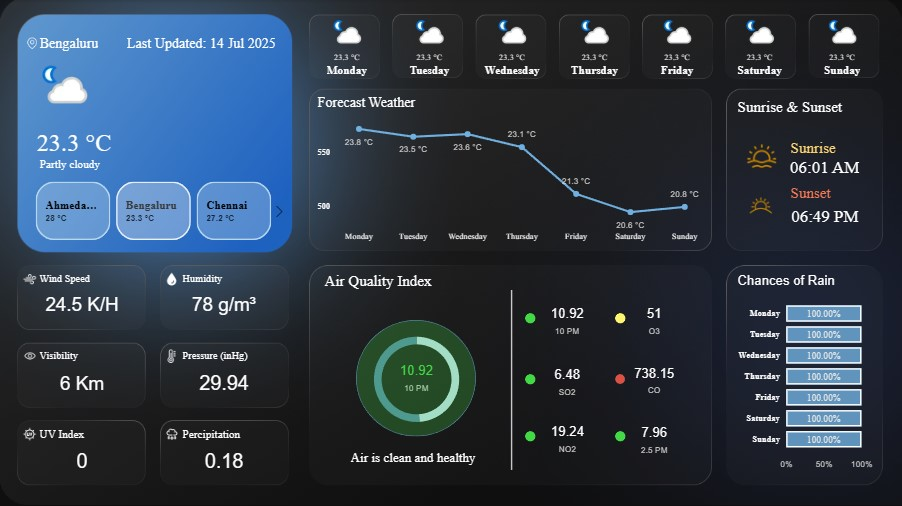

The dashboard page shown, as its layout file describes it:
{"tool":"powerbi","page":{"name":"Page 1","canvas":[1280,720],"ordinal":0},"visuals":[{"type":"advancedSlicerVisual","fields":{"Values":["Location.location.name"]},"box":[26.7,253.3,386.7,93.3],"z":0},{"type":"cardVisual","fields":{"Data":["Min(Current_Table.current.condition.text)"]},"box":[31.9,193.2,374.6,60.5],"z":1000},{"type":"cardVisual","fields":{"Data":["_Measures.Current_Temp_C"]},"box":[28.6,147.1,378.6,105.7],"z":2000},{"type":"cardVisual","fields":{"Data":["Min(Current_Table.location.name)"]},"box":[32.2,18.9,227.8,61.1],"z":3000},{"type":"cardVisual","fields":{"Data":["_Measures.Last_Updated_curr_date"]},"box":[138.2,19.1,280.9,60.9],"z":4000},{"type":"image","box":[33.8,46.2,26.2,32.5],"z":5000},{"type":"cardVisual","fields":{"Data":["Min(Current_Table.current.condition.icon)"]},"box":[35.7,72.9,110,105.7],"z":6000},{"type":"image","box":[27,492,33,28],"z":7000},{"type":"image","box":[26.9,382.3,33.1,29.2],"z":8000},{"type":"image","box":[228,382,32,29],"z":9000},{"type":"image","box":[228,492,32,29],"z":10000},{"type":"image","box":[27,602,33,29],"z":11000},{"type":"image","box":[229,602,31,29],"z":12000},{"type":"cardVisual","title":"Visibility ","fields":{"Data":["_Measures.Last_Updated_curr_date"]},"box":[52,498,150,22.7],"z":13000},{"type":"cardVisual","title":"Humidity","fields":{"Data":["_Measures.Last_Updated_curr_date"]},"box":[255.3,388.7,150,22.7],"z":14000},{"type":"cardVisual","title":"Wind Speed ","fields":{"Data":["_Measures.Last_Updated_curr_date"]},"box":[52,388.7,150,22.7],"z":15000},{"type":"cardVisual","title":"Pressure (inHg)","fields":{"Data":["_Measures.Last_Updated_curr_date"]},"box":[255.3,498,150,22.7],"z":16000},{"type":"cardVisual","title":"UV Index","fields":{"Data":["_Measures.Last_Updated_curr_date"]},"box":[52,608.7,150,22.7],"z":17000},{"type":"cardVisual","title":"Percipitation","fields":{"Data":["_Measures.Last_Updated_curr_date"]},"box":[255.3,608.7,150,22.7],"z":18000},{"type":"card","fields":{"Values":["_Measures.Wind_speed"]},"box":[26.4,397.1,181.4,71.4],"z":19000},{"type":"card","fields":{"Values":["_Measures.Humidity"]},"box":[227.9,397.1,181.4,71.4],"z":20000},{"type":"card","fields":{"Values":["_Measures.Visibility"]},"box":[26.4,509.3,181.4,71.4],"z":21000},{"type":"card","fields":{"Values":["Sum(Current_Table.current.pressure_in)"]},"box":[227.9,509.3,181.4,71.4],"z":22000},{"type":"card","fields":{"Values":["Sum(Current_Table.current.uv)"]},"box":[26.4,620,181.4,71.4],"z":23000},{"type":"card","fields":{"Values":["Avg(Forecast by day.forecast.forecastday.day.totalprecip_in)"]},"box":[227.9,620,181.4,71.4],"z":24000},{"type":"advancedSlicerVisual","fields":{"Values":["Forecast by day.Day_Name"]},"box":[433.3,16.7,825,113.3],"z":25000},{"type":"lineChart","title":"Forecast Weather","fields":{"Y":["Sum(Forecast by day.forecast.forecastday.day.avgtemp_c)"],"Category":["Forecast by day.Day_Name"]},"box":[446.2,135,561.2,217.5],"z":26000},{"type":"cardVisual","title":"Sunrise & Sunset","fields":{"Data":["_Measures.Last_Updated_curr_date"]},"box":[1041.7,141.7,202.7,34],"z":27000},{"type":"cardVisual","fields":{"Data":["Min(Forecast by day.Sunrise_Time)"]},"box":[1077,193,167,63],"z":28000},{"type":"cardVisual","fields":{"Data":["Min(Forecast by day.Sunset_Time)"]},"box":[1077,262,166,63],"z":29000},{"type":"cardVisual","title":"Sunrise ","fields":{"Data":["_Measures.Last_Updated_curr_date"]},"box":[1117,200,139,34],"z":30000},{"type":"cardVisual","title":"Sunset","fields":{"Data":["_Measures.Last_Updated_curr_date"]},"box":[1117,264,138,34],"z":31000},{"type":"image","box":[1045,197,72,51],"z":32000},{"type":"image","box":[1042,266,75,52],"z":33000},{"type":"hundredPercentStackedBarChart","title":"Chances of Rain","fields":{"Category":["Forecast by day.Day_Name"],"Y":["Sum(Forecast by day.forecast.forecastday.day.daily_chance_of_rain)"]},"box":[1041.7,388.3,201.7,286.7],"z":34000},{"type":"cardVisual","title":"Air Quality Index","fields":{"Data":["_Measures.Last_Updated_curr_date"]},"box":[456.4,388.3,202.7,34],"z":35000},{"type":"card","fields":{"Values":["Sum(Current_Table.current.air_quality.pm10)"]},"box":[756.9,410.7,97.3,86.7],"z":36000},{"type":"card","fields":{"Values":["Sum(Current_Table.current.air_quality.o3)"]},"box":[880,410.7,97.3,86.7],"z":37000},{"type":"card","fields":{"Values":["Sum(Current_Table.current.air_quality.so2)"]},"box":[756.9,497.4,97.3,86.7],"z":38000},{"type":"card","fields":{"Values":["Sum(Current_Table.current.air_quality.no2)"]},"box":[756.1,578.6,97.7,86.7],"z":39000},{"type":"card","fields":{"Values":["Sum(Current_Table.current.air_quality.co)"]},"box":[880,497.8,97.2,82.2],"z":40000},{"type":"shape","box":[676.3,413,100.9,255.4],"z":41000},{"type":"card","fields":{"Values":["Sum(Current_Table.current.air_quality.pm10)"]},"box":[542.2,492.2,97.8,86.7],"z":42000},{"type":"shape","box":[746,531.3,15,15],"z":43000},{"type":"shape","box":[745.8,445,15,15],"z":44000},{"type":"shape","box":[745.3,612.7,15,15],"z":45000},{"type":"shape","box":[872.7,444.7,15,15],"z":46000},{"type":"shape","box":[872.8,531.7,14.4,14.4],"z":47000},{"type":"card","fields":{"Values":["Sum(Current_Table.current.air_quality.pm2_5)"]},"box":[880,579,97.3,86.7],"z":48000},{"type":"shape","box":[872.7,612.3,15,15],"z":49000},{"type":"donutChart","fields":{"Y":["_Measures.Left_10PM_Value","_Measures.MaxValue"]},"box":[491.1,437.8,200,202.2],"z":50000},{"type":"shape","box":[505.5,455.5,170,165],"z":51000},{"type":"cardVisual","title":"Air Quality Index","fields":{"Data":["_Measures.Suggestion"]},"box":[446.2,583.8,281.2,123.8],"z":52000}]}

Visuals, with their boxes in screenshot pixels (x1, y1, x2, y2), scaled from the page's 1280x720 canvas onto the 902x506 screenshot:
advancedSlicerVisual - Location.location.name: <bbox>19, 178, 291, 244</bbox>
cardVisual - Min(Current_Table.current.condition.text): <bbox>22, 136, 286, 178</bbox>
cardVisual - _Measures.Current_Temp_C: <bbox>20, 103, 287, 178</bbox>
cardVisual - Min(Current_Table.location.name): <bbox>23, 13, 183, 56</bbox>
cardVisual - _Measures.Last_Updated_curr_date: <bbox>97, 13, 295, 56</bbox>
image: <bbox>24, 32, 42, 55</bbox>
cardVisual - Min(Current_Table.current.condition.icon): <bbox>25, 51, 103, 126</bbox>
image: <bbox>19, 346, 42, 365</bbox>
image: <bbox>19, 269, 42, 289</bbox>
image: <bbox>161, 268, 183, 289</bbox>
image: <bbox>161, 346, 183, 366</bbox>
image: <bbox>19, 423, 42, 443</bbox>
image: <bbox>161, 423, 183, 443</bbox>
"Visibility " cardVisual: <bbox>37, 350, 142, 366</bbox>
"Humidity" cardVisual: <bbox>180, 273, 286, 289</bbox>
"Wind Speed " cardVisual: <bbox>37, 273, 142, 289</bbox>
"Pressure (inHg)" cardVisual: <bbox>180, 350, 286, 366</bbox>
"UV Index" cardVisual: <bbox>37, 428, 142, 444</bbox>
"Percipitation" cardVisual: <bbox>180, 428, 286, 444</bbox>
card - _Measures.Wind_speed: <bbox>19, 279, 146, 329</bbox>
card - _Measures.Humidity: <bbox>161, 279, 288, 329</bbox>
card - _Measures.Visibility: <bbox>19, 358, 146, 408</bbox>
card - Sum(Current_Table.current.pressure_in): <bbox>161, 358, 288, 408</bbox>
card - Sum(Current_Table.current.uv): <bbox>19, 436, 146, 486</bbox>
card - Avg(Forecast by day.forecast.forecastday.day.totalprecip_in): <bbox>161, 436, 288, 486</bbox>
advancedSlicerVisual - Forecast by day.Day_Name: <bbox>305, 12, 887, 91</bbox>
"Forecast Weather" lineChart: <bbox>314, 95, 710, 248</bbox>
"Sunrise & Sunset" cardVisual: <bbox>734, 100, 877, 123</bbox>
cardVisual - Min(Forecast by day.Sunrise_Time): <bbox>759, 136, 877, 180</bbox>
cardVisual - Min(Forecast by day.Sunset_Time): <bbox>759, 184, 876, 228</bbox>
"Sunrise " cardVisual: <bbox>787, 141, 885, 164</bbox>
"Sunset" cardVisual: <bbox>787, 186, 884, 209</bbox>
image: <bbox>736, 138, 787, 174</bbox>
image: <bbox>734, 187, 787, 223</bbox>
"Chances of Rain" hundredPercentStackedBarChart: <bbox>734, 273, 876, 474</bbox>
"Air Quality Index" cardVisual: <bbox>322, 273, 464, 297</bbox>
card - Sum(Current_Table.current.air_quality.pm10): <bbox>533, 289, 602, 350</bbox>
card - Sum(Current_Table.current.air_quality.o3): <bbox>620, 289, 689, 350</bbox>
card - Sum(Current_Table.current.air_quality.so2): <bbox>533, 350, 602, 410</bbox>
card - Sum(Current_Table.current.air_quality.no2): <bbox>533, 407, 602, 468</bbox>
card - Sum(Current_Table.current.air_quality.co): <bbox>620, 350, 689, 408</bbox>
shape: <bbox>477, 290, 548, 470</bbox>
card - Sum(Current_Table.current.air_quality.pm10): <bbox>382, 346, 451, 407</bbox>
shape: <bbox>526, 373, 536, 384</bbox>
shape: <bbox>526, 313, 536, 323</bbox>
shape: <bbox>525, 431, 536, 441</bbox>
shape: <bbox>615, 313, 626, 323</bbox>
shape: <bbox>615, 374, 625, 384</bbox>
card - Sum(Current_Table.current.air_quality.pm2_5): <bbox>620, 407, 689, 468</bbox>
shape: <bbox>615, 430, 626, 441</bbox>
donutChart - _Measures.Left_10PM_Value x _Measures.MaxValue: <bbox>346, 308, 487, 450</bbox>
shape: <bbox>356, 320, 476, 436</bbox>
"Air Quality Index" cardVisual: <bbox>314, 410, 513, 497</bbox>
